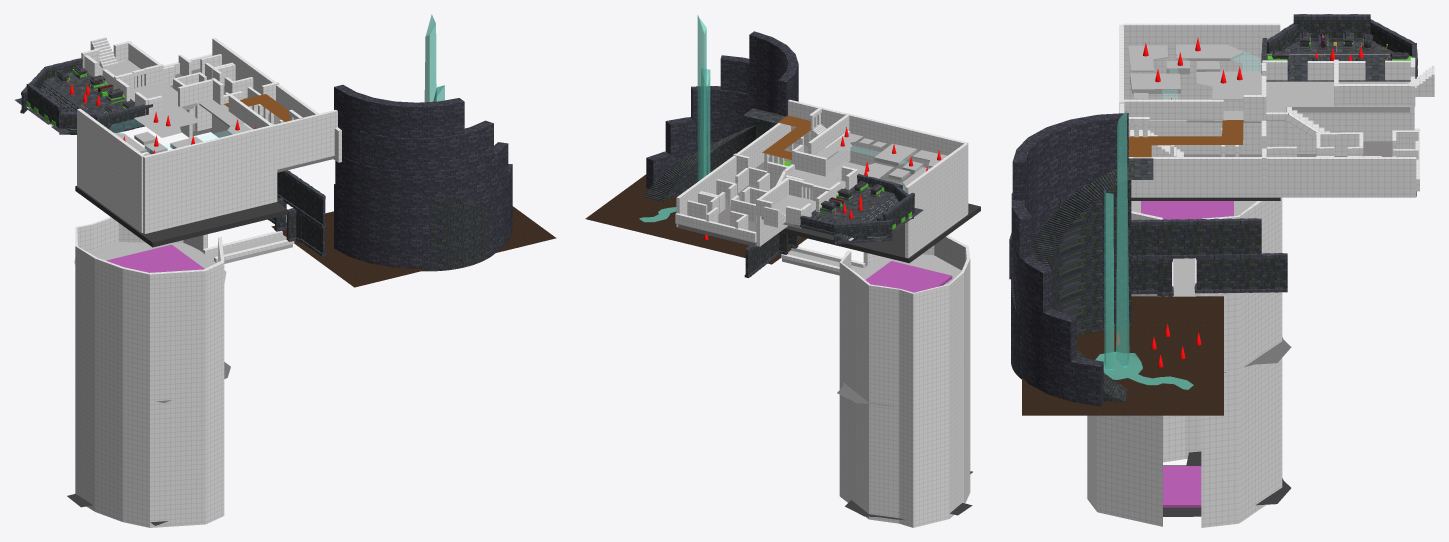
Rendered from NewBlockout.gltf.
3 renders of one model, left to right at view 1: azimuth 30°, elevation 25°; view 2: azimuth 150°, elevation 25°; view 3: azimuth 270°, elevation 25°, orthographic. The views are drawn at different scales.
Parts seen in each view (by area): view 1: PolyShape (×2), Cube (25), Cube (30), MOD_Wall_01_E_convex_small (4), MOD_Wall_01_E_convex_small (1), MOD_Wall_01_E_convex_small (2), Stairs, Plane (1), MOD_Wall_01_E_convex_small (8), MOD_Wall_01_E_convex_small (7), Cube (12), Cube (4) (+13 smaller); view 2: PolyShape (×2), Cube (30), Plane (1), Cube (25), Stairs, Waterfall (×2), MOD_Wall_01_E_convex_small (4), MOD_Wall_01_E_convex_small (3), Cube (4), MOD_Wall_01_E_convex_small (5), Cube (12) (×2), Elevator (+14 smaller); view 3: PolyShape (×2), Plane (1), Stairs (×3), P_MOD_Wall_01_M_straight_large (×9), Cube (30), Cube (13), MOD_Wall_01_E_convex_small (4), Cube (23), Waterfall (×2), MOD_Wall_01_E_convex_small (9), Cube (11), MOD_Wall_01_E_convex_small (+24 smaller).
Part boxes in pixels (left/top/right/bottom): PolyShape (×2): left=75, top=106, right=224, bottom=527; Cube (25): left=143, top=124, right=277, bottom=233; Cube (30): left=77, top=108, right=144, bottom=232; MOD_Wall_01_E_convex_small (4): left=334, top=84, right=464, bottom=138; MOD_Wall_01_E_convex_small (1): left=359, top=120, right=493, bottom=171; MOD_Wall_01_E_convex_small (2): left=335, top=156, right=465, bottom=204; Stairs: left=408, top=200, right=494, bottom=271; Plane (1): left=271, top=206, right=556, bottom=287; MOD_Wall_01_E_convex_small (8): left=334, top=216, right=431, bottom=268; MOD_Wall_01_E_convex_small (7): left=334, top=184, right=464, bottom=237; Cube (12): left=276, top=109, right=337, bottom=169; Cube (4): left=75, top=185, right=287, bottom=247; PolyShape (×2): left=827, top=161, right=970, bottom=527; Cube (30): left=905, top=143, right=967, bottom=258; Plane (1): left=585, top=174, right=807, bottom=264; Cube (25): left=844, top=113, right=968, bottom=212; Stairs: left=643, top=109, right=777, bottom=202; Waterfall (×2): left=697, top=15, right=710, bottom=181; MOD_Wall_01_E_convex_small (4): left=749, top=31, right=798, bottom=112; MOD_Wall_01_E_convex_small (3): left=691, top=86, right=777, bottom=125; Cube (4): left=784, top=203, right=980, bottom=263; MOD_Wall_01_E_convex_small (5): left=665, top=117, right=752, bottom=154; Cube (12) (×2): left=675, top=99, right=845, bottom=242; Elevator: left=865, top=261, right=952, bottom=292; PolyShape (×2): left=1087, top=71, right=1282, bottom=527; Plane (1): left=1022, top=296, right=1223, bottom=415; Stairs (×3): left=1011, top=65, right=1434, bottom=402; P_MOD_Wall_01_M_straight_large (×9): left=1133, top=224, right=1287, bottom=290; Cube (30): left=1123, top=23, right=1280, bottom=110; Cube (13): left=1262, top=157, right=1416, bottom=197; MOD_Wall_01_E_convex_small (4): left=1012, top=113, right=1128, bottom=201; Cube (23): left=1128, top=157, right=1262, bottom=197; Waterfall (×2): left=1104, top=110, right=1129, bottom=369; MOD_Wall_01_E_convex_small (9): left=1017, top=333, right=1103, bottom=406; Cube (11): left=1130, top=120, right=1286, bottom=154; MOD_Wall_01_E_convex_small: left=1024, top=158, right=1128, bottom=226.
Bounding box in the file's own units: 88.08 × 91.06 × 65.99.
22 materials, 11 textured.
